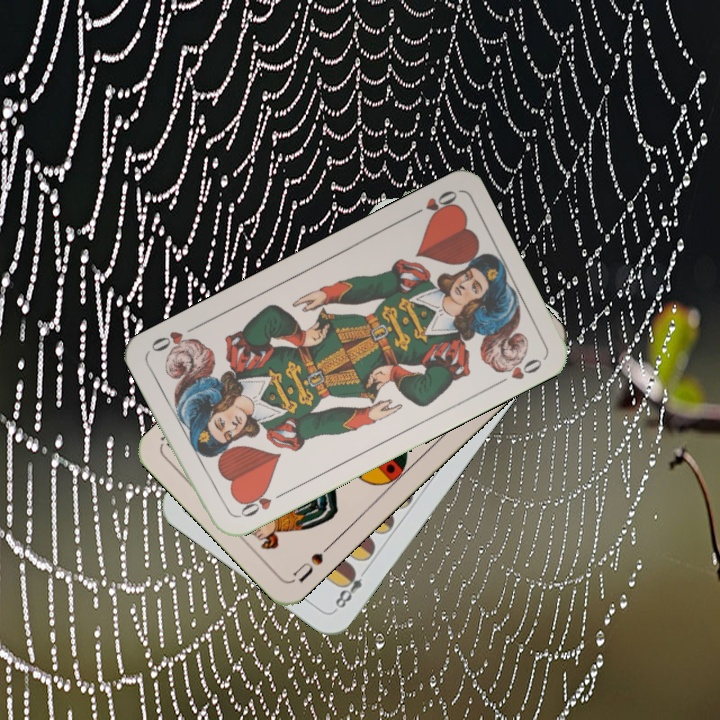E8: (331, 563, 371, 611)
HO: (232, 484, 288, 521), (404, 186, 460, 222)
SU: (288, 539, 335, 585)
